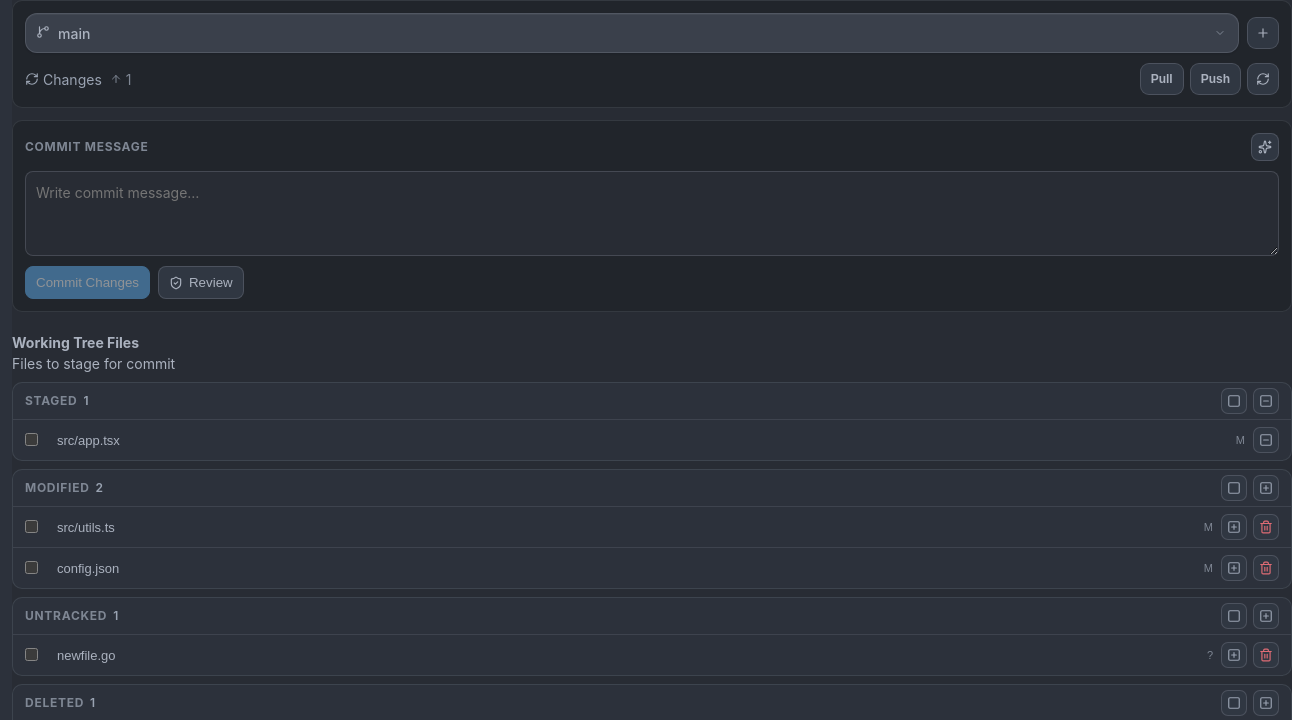
GitSidebarPanel context menu – clipboard & editor actions › context menu is dismissed after a copy action
This screenshot has width=1292, height=720.
Step 1. Right-click the element with class "git-sidebar-file-row" showing "src/utils.ts M" → {"x": 652, "y": 526}, box [13,506,1291,547]
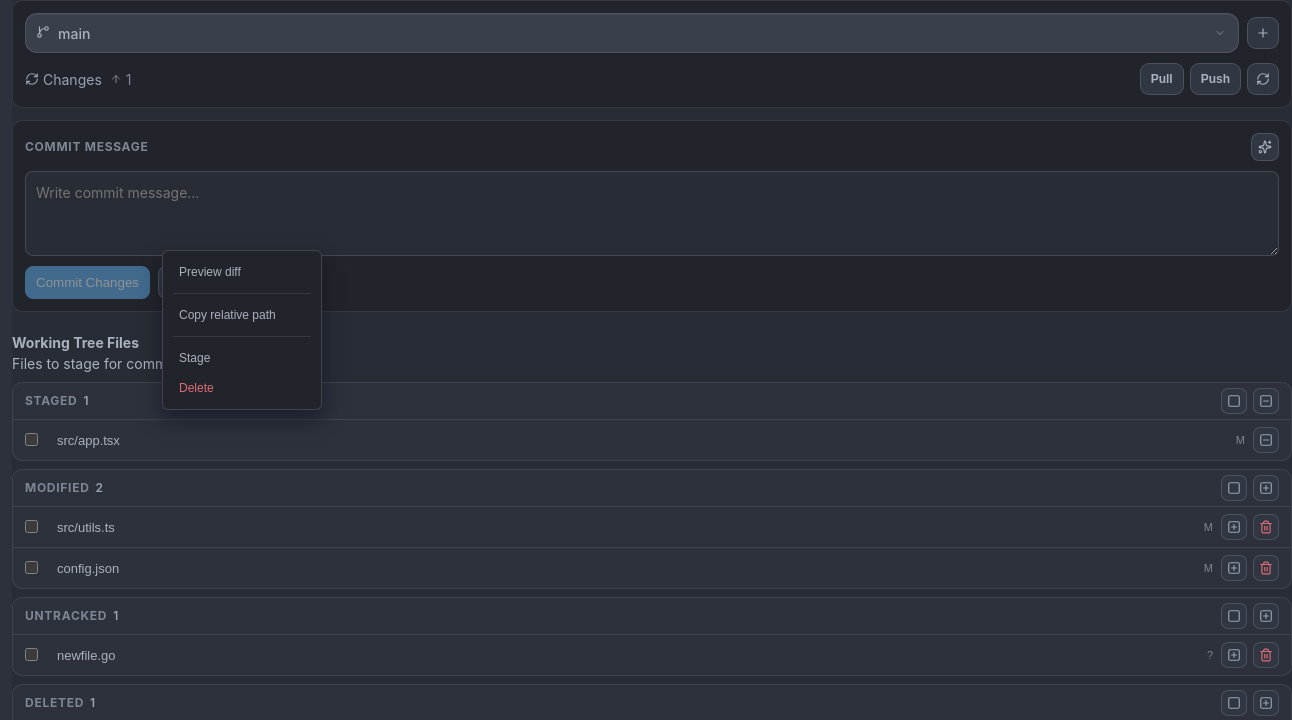
Expected: the element with class "context-menu" is shown, [162,250,322,410]
Step 2. Click the button with class "context-menu-item" showing "Copy relative path" → {"x": 242, "y": 315}, box [169,300,315,330]
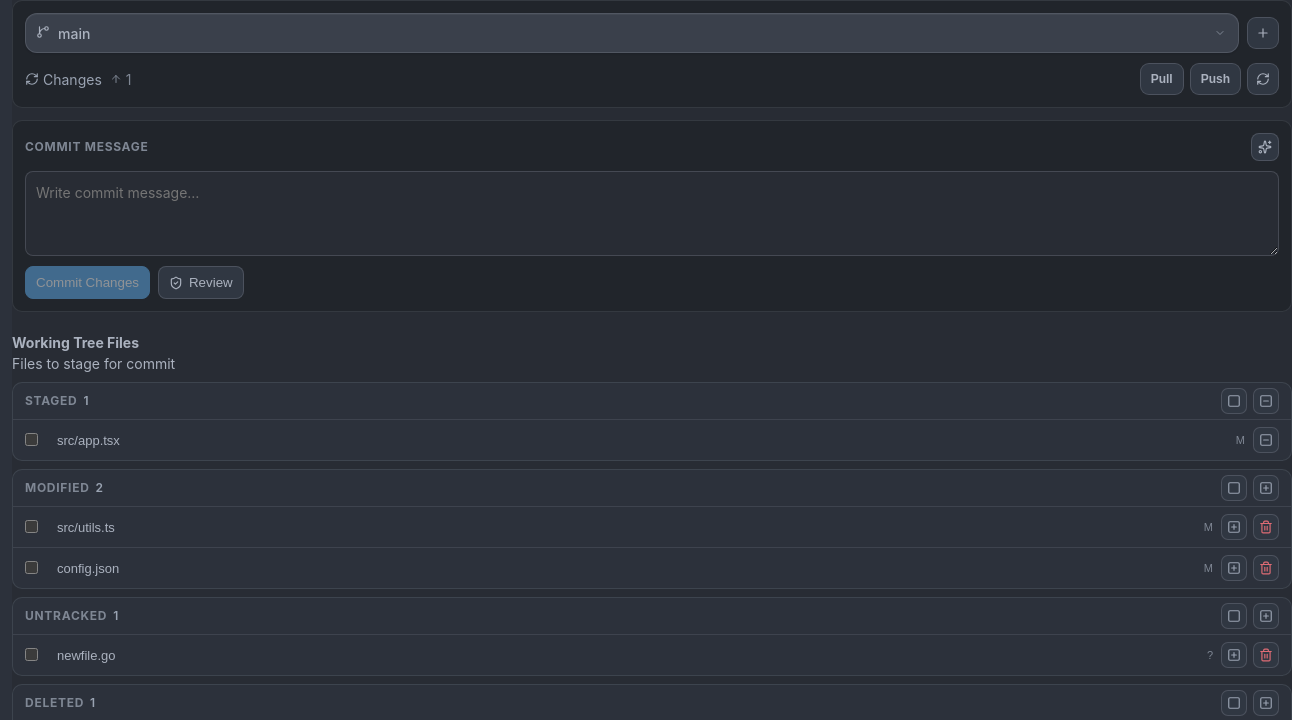
Expected: the element with class "context-menu" is gone
